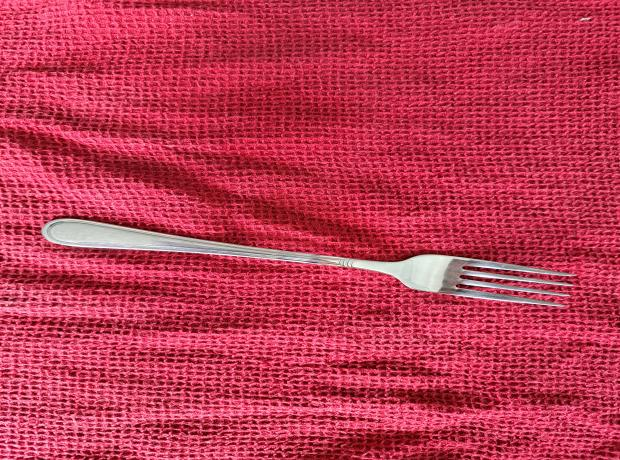metal: (32, 216, 594, 308)
